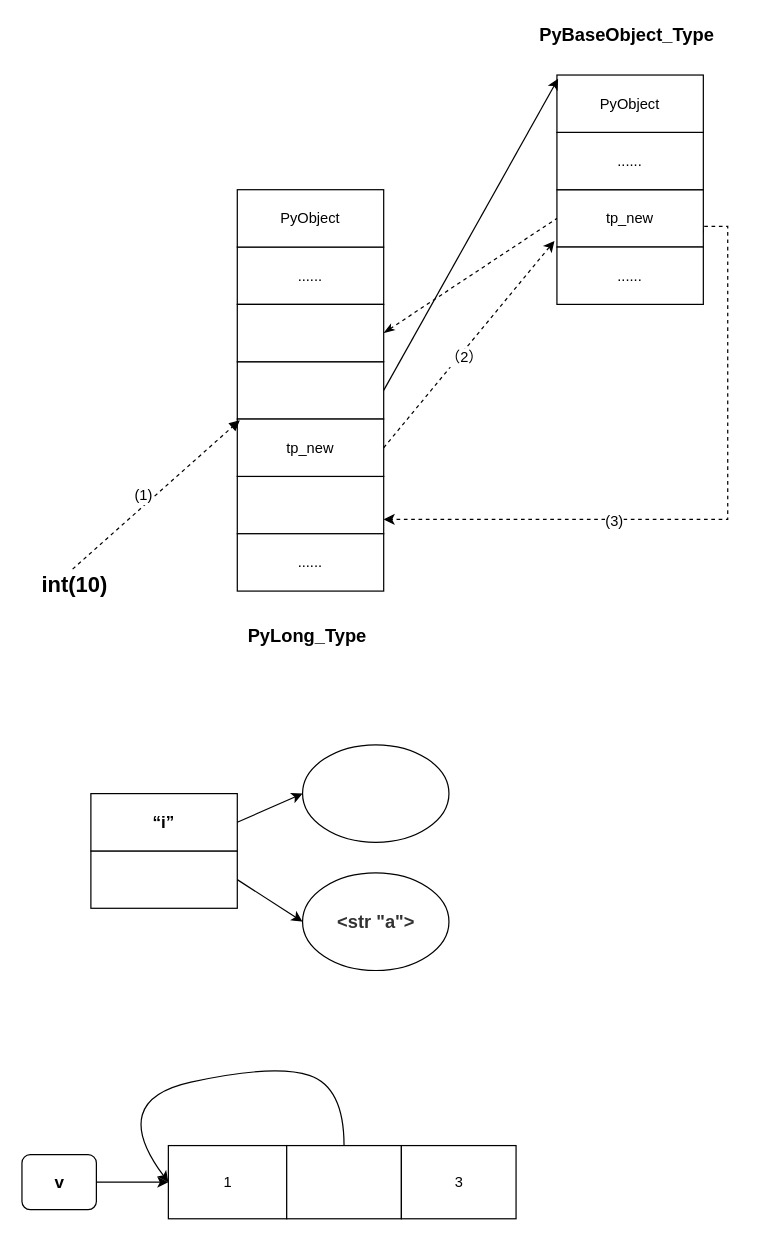
The diagram is 759 pixels wide and 1240 high, and some of its shapes have lost their labels. Each missing label, with the box of its shape:
<int 1>: (301, 744, 449, 842)
tp_base: (236, 361, 384, 419)
tp_basicsize: (236, 303, 384, 362)
tp_init: (236, 475, 384, 534)
“s”: (90, 850, 237, 908)
